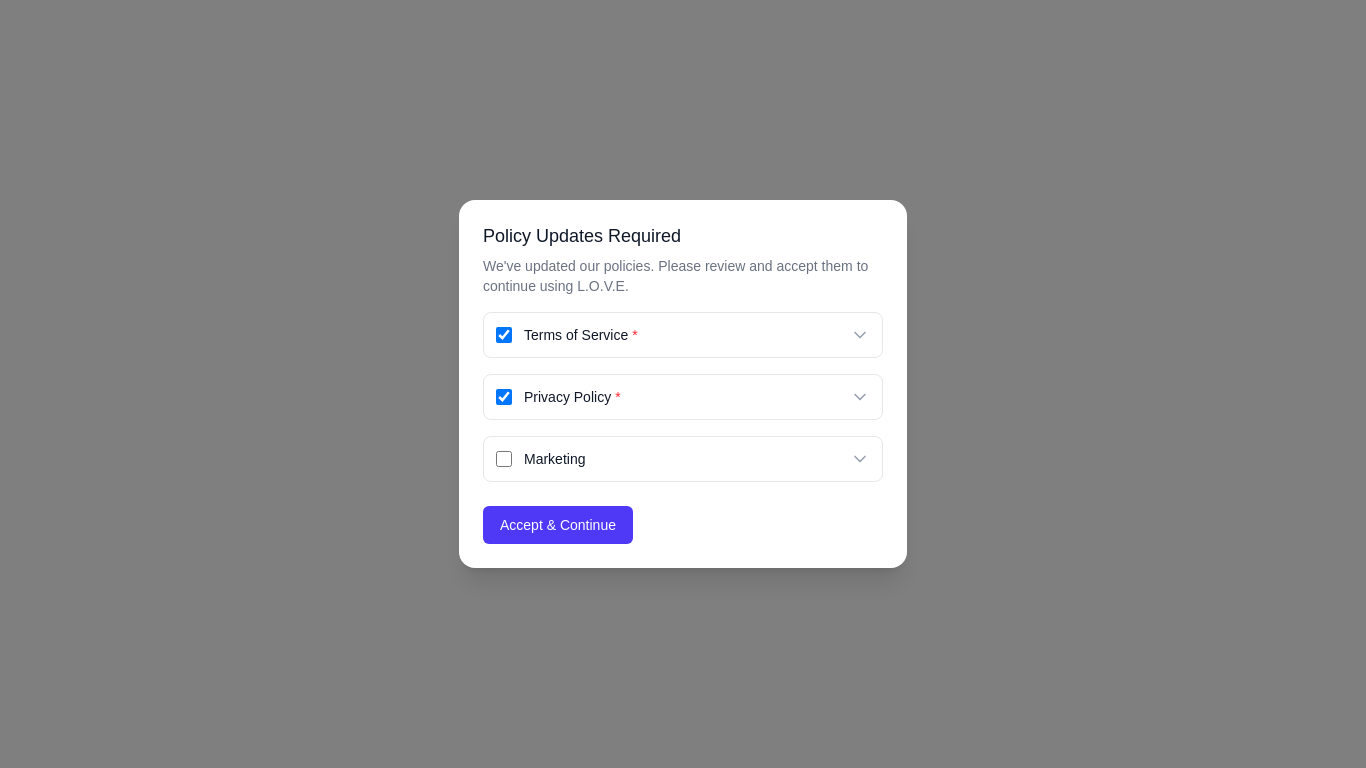
Test: ConsentGate › disables submit if required policies unchecked
Check: the heading "Policy Updates Required" is shown, box 483,226 -> 681,246
Check: the button "Accept & Continue" is enabled, box 483,506 -> 633,544
Click the checkbox labelled "Terms of Service*" at (504, 335), box 496,327 -> 512,343
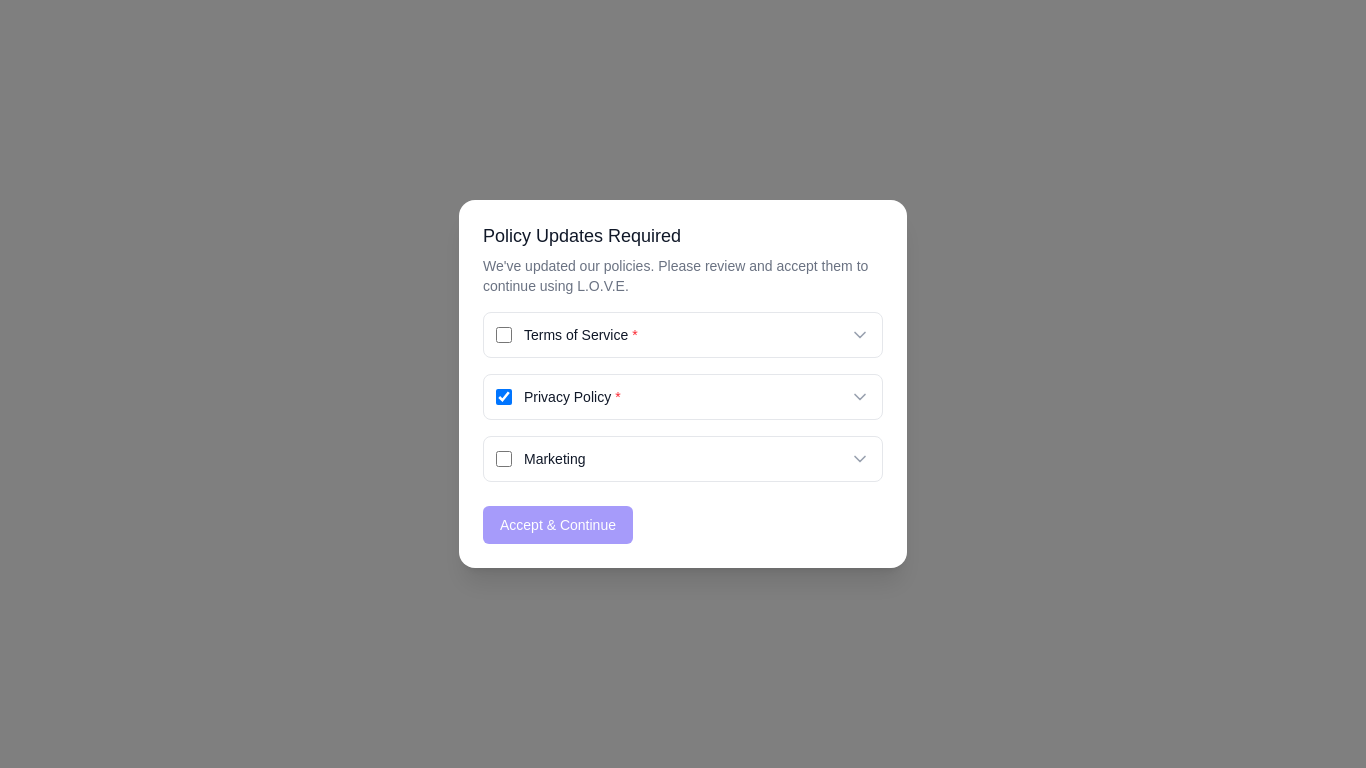
Check: the checkbox labelled "Terms of Service*" is not checked, box 496,327 -> 512,343
Check: the button "Accept & Continue" is disabled, box 483,506 -> 633,544
